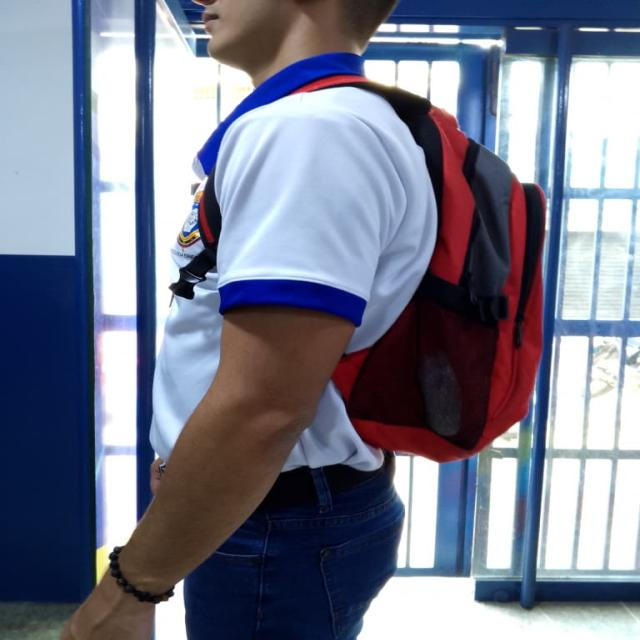uniforme_superior: (150, 51, 438, 471)
